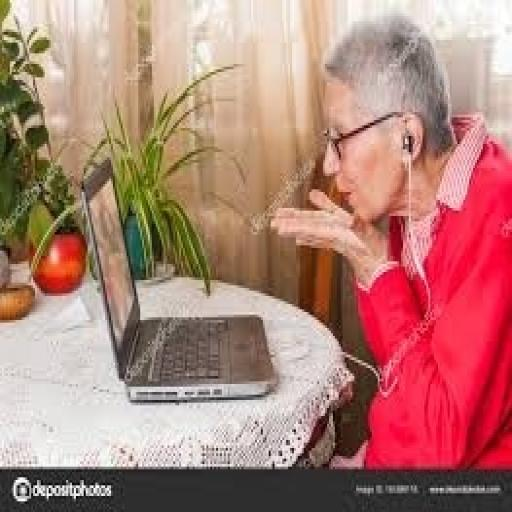using_laptop: (76, 152, 278, 405)
